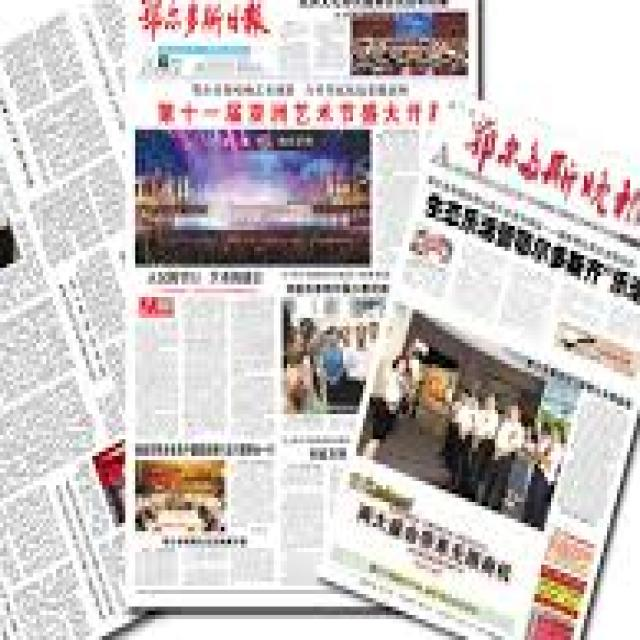organic: (128, 0, 488, 619), (342, 97, 635, 626)
